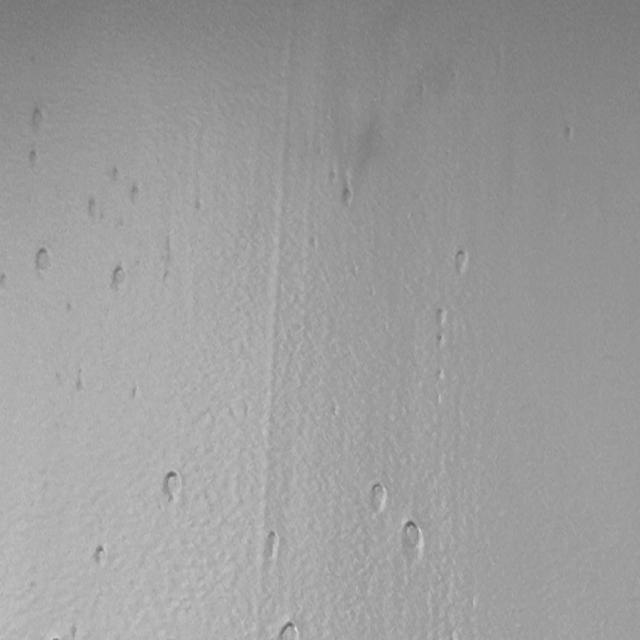pin holes: (396, 521, 428, 568), (161, 468, 186, 504), (31, 244, 55, 278), (367, 482, 389, 515), (108, 263, 131, 293), (450, 246, 470, 276), (91, 542, 111, 570), (28, 107, 48, 135), (262, 529, 280, 560), (277, 619, 302, 640), (83, 197, 101, 222), (339, 182, 356, 208), (25, 148, 43, 172), (72, 367, 88, 392), (128, 184, 146, 206), (162, 266, 176, 293), (434, 306, 450, 327), (562, 124, 576, 145), (110, 164, 125, 183), (128, 385, 141, 403), (193, 198, 206, 215), (436, 366, 448, 384), (436, 333, 448, 350), (64, 300, 76, 316), (0, 271, 9, 290)
